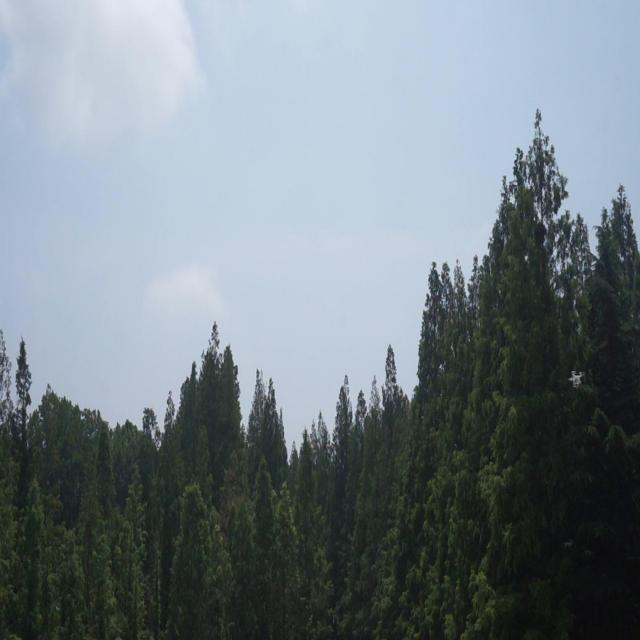UAV: (568, 371, 583, 387)
